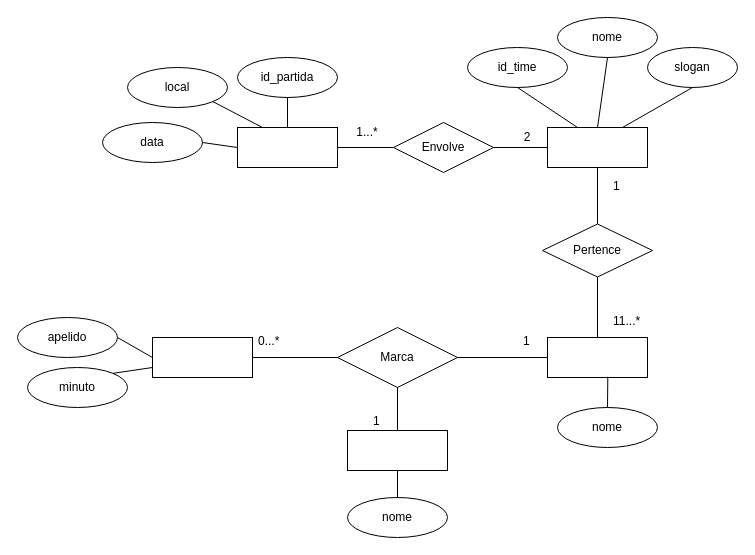
The diagram is 755 pixels wide and 555 high, and some of its shapes have lost their labels. Each missing label, with the centre of its shape:
Corpo: the point at 397,450
Gol: the point at 202,357
Jogador: the point at 597,357
Partida: the point at 287,147
Times: the point at 597,147
